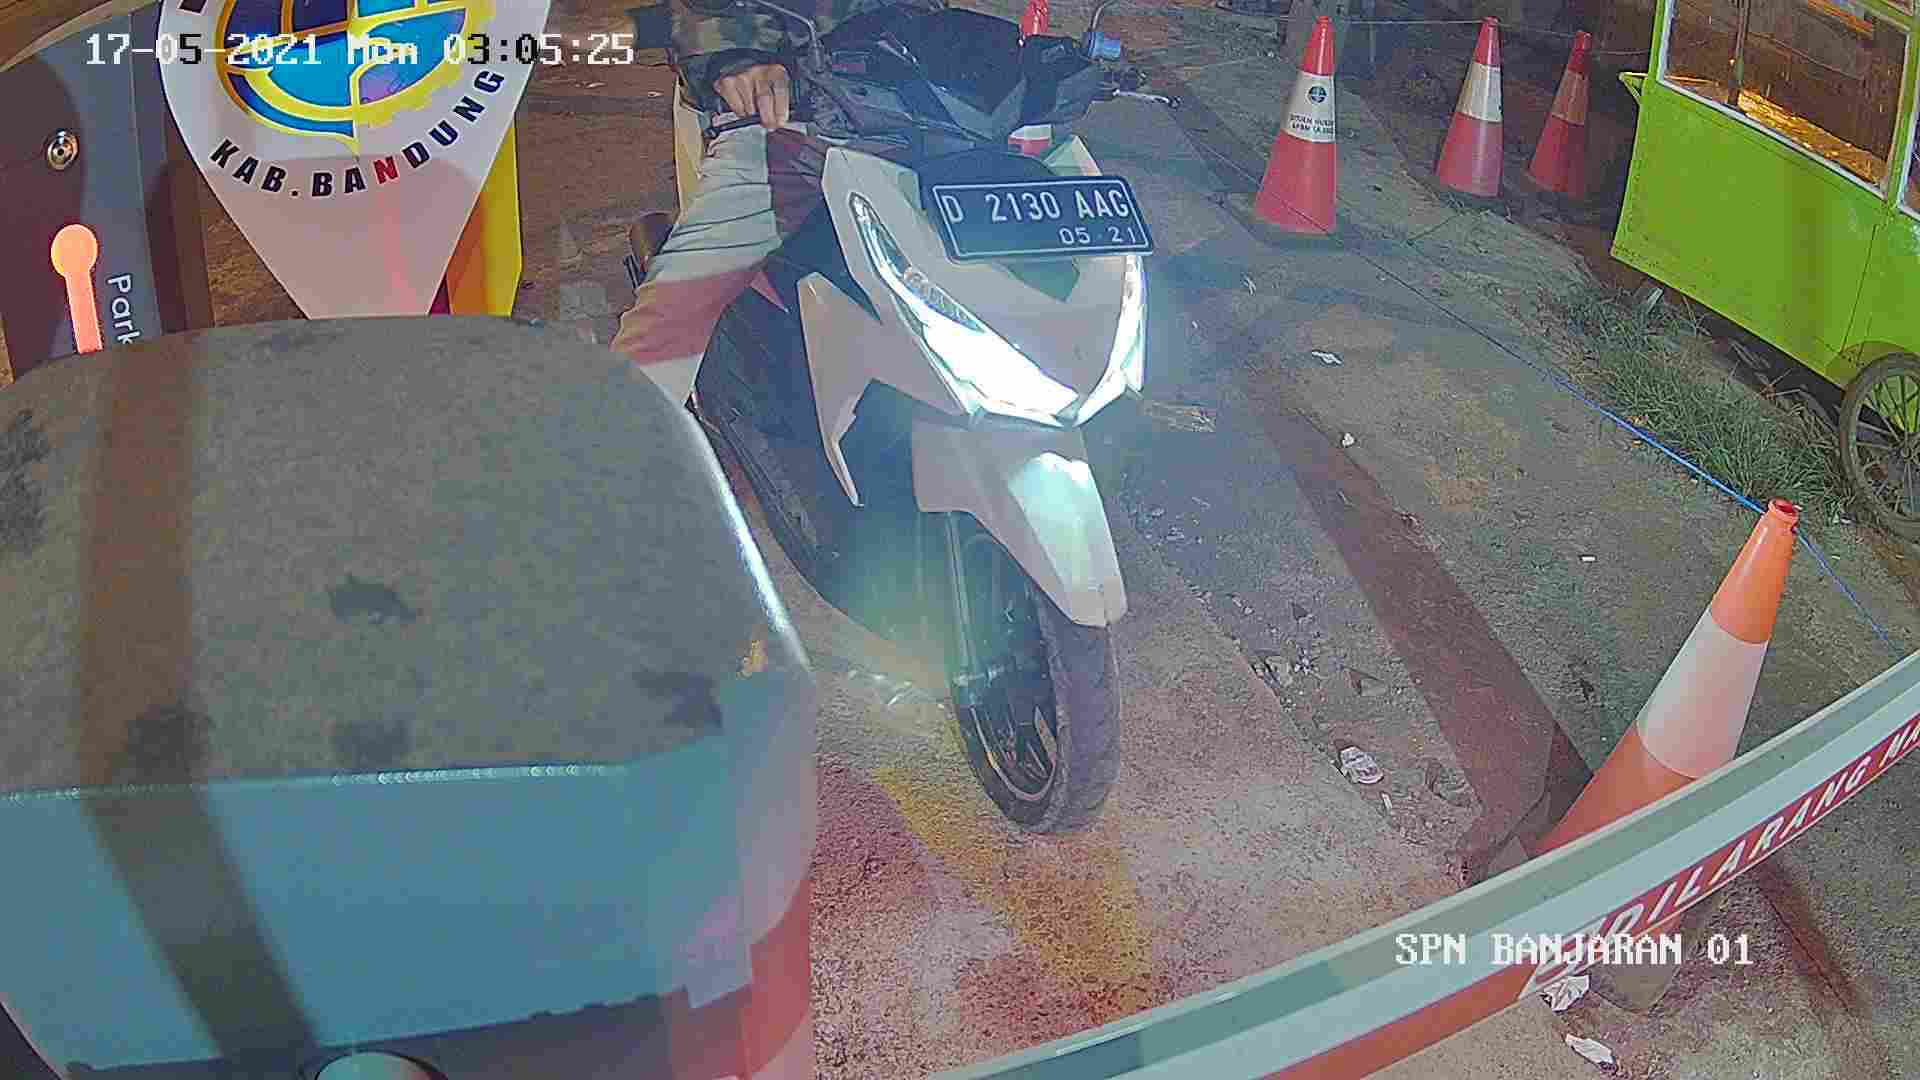motor: (642, 61, 1302, 881)
